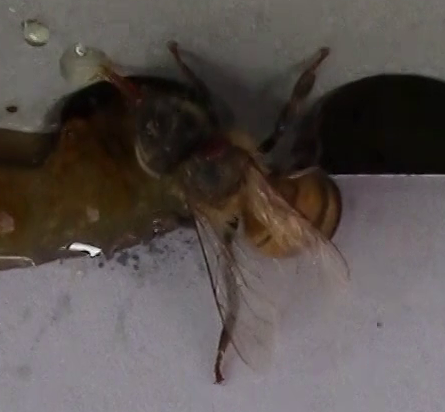Varroa destructor: (197, 133, 231, 160)
